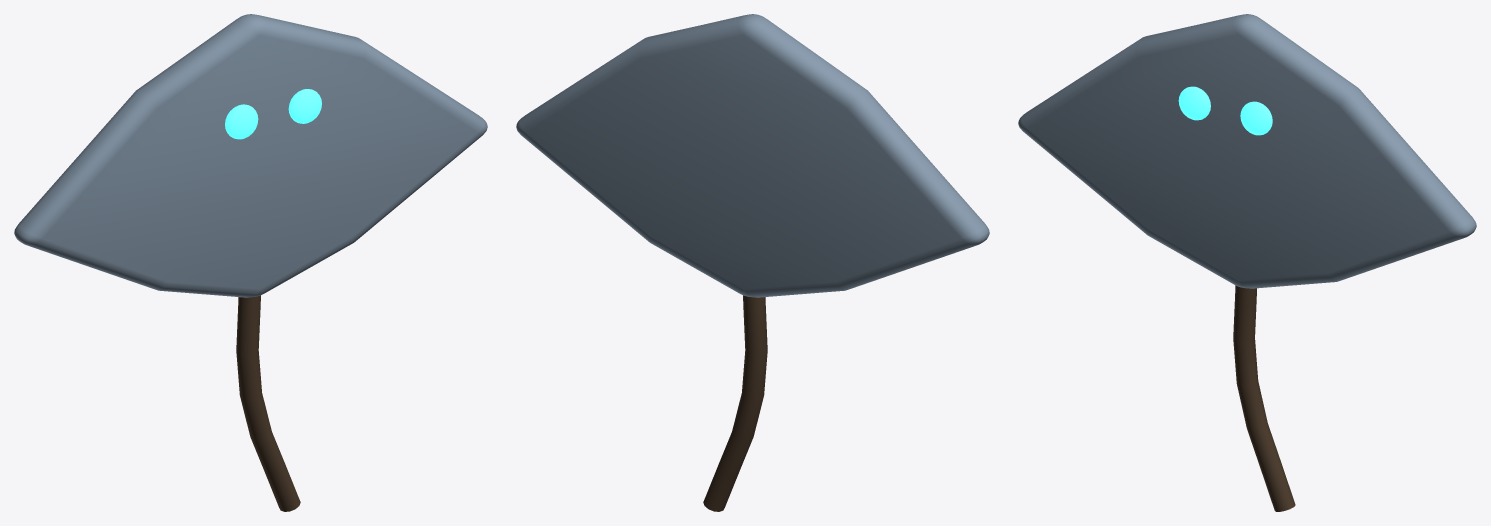
Rendered from aquatic_v4.glb.
3 views of the same model, side by side, from view 1: azimuth 30°, elevation 25°; view 2: azimuth 150°, elevation 25°; view 3: azimuth 330°, elevation 25° (orthographic). The views are drawn at different scales.
Parts seen in each view (by area): view 1: RAY_BODY_PRIMARY, RAY_TAIL_SECONDARY, EYE_EMISSIVE.001, EYE_EMISSIVE; view 2: RAY_BODY_PRIMARY, RAY_TAIL_SECONDARY; view 3: RAY_BODY_PRIMARY, RAY_TAIL_SECONDARY, EYE_EMISSIVE, EYE_EMISSIVE.001.
Part boxes in pixels (left/top/right/bottom): RAY_BODY_PRIMARY: left=14, top=14, right=487, bottom=297; RAY_TAIL_SECONDARY: left=236, top=295, right=300, bottom=511; EYE_EMISSIVE.001: left=288, top=89, right=321, bottom=123; EYE_EMISSIVE: left=225, top=104, right=258, bottom=139; RAY_BODY_PRIMARY: left=516, top=14, right=989, bottom=297; RAY_TAIL_SECONDARY: left=703, top=295, right=767, bottom=511; RAY_BODY_PRIMARY: left=1018, top=14, right=1476, bottom=288; RAY_TAIL_SECONDARY: left=1233, top=285, right=1295, bottom=511; EYE_EMISSIVE: left=1178, top=86, right=1210, bottom=120; EYE_EMISSIVE.001: left=1240, top=101, right=1272, bottom=135.
Bounding box in the file's own units: 2.64 × 2.7 × 0.36.
